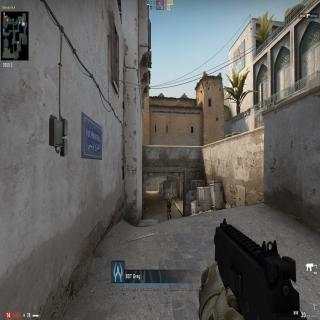CT-Head: (168, 196, 170, 200)
